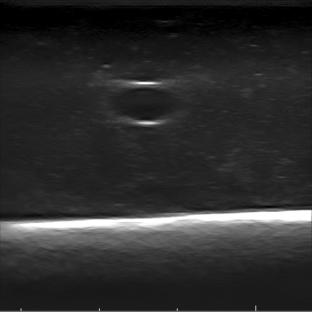vessel: (105, 81, 180, 128)
